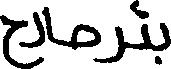X: (0, 10, 26, 68), (71, 19, 100, 67), (102, 21, 123, 67), (34, 5, 43, 68), (142, 6, 150, 54), (45, 2, 52, 46), (162, 18, 170, 55)
